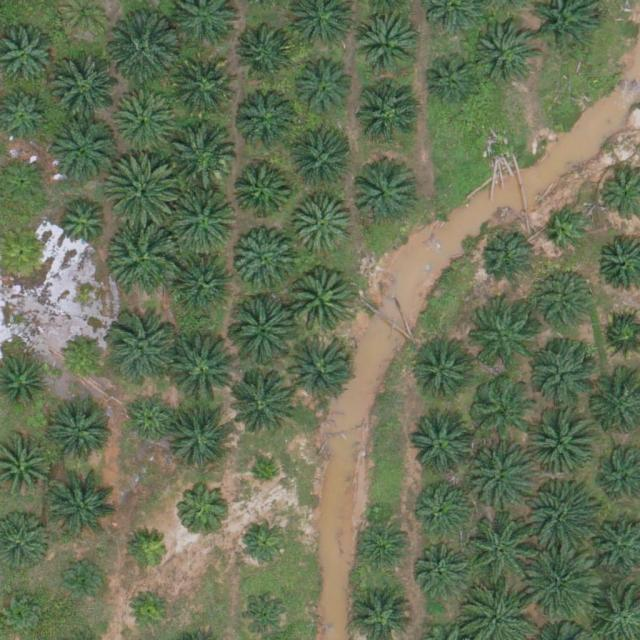Healthy: (110, 222, 181, 293), (49, 470, 119, 541), (529, 549, 599, 620), (528, 406, 598, 477), (529, 334, 599, 405), (464, 444, 535, 514), (284, 334, 354, 405), (226, 297, 297, 367), (224, 370, 295, 440), (166, 334, 236, 405), (169, 183, 239, 254), (107, 153, 177, 224), (169, 402, 239, 473), (109, 15, 179, 86), (529, 480, 599, 550), (469, 515, 539, 585), (286, 267, 356, 337), (109, 315, 179, 385), (167, 120, 237, 190), (51, 57, 121, 127), (47, 115, 117, 185), (50, 399, 113, 462), (470, 378, 533, 441), (415, 338, 478, 401), (229, 161, 292, 224), (175, 252, 238, 315), (472, 23, 535, 86), (114, 91, 177, 154), (467, 308, 529, 371), (414, 537, 476, 600), (412, 474, 474, 537), (412, 416, 474, 479), (351, 165, 413, 228), (292, 134, 354, 197), (293, 196, 355, 259), (234, 229, 296, 292), (357, 82, 419, 145), (353, 14, 415, 77), (171, 59, 233, 122), (534, 267, 596, 329), (292, 57, 354, 119), (237, 85, 299, 147), (235, 20, 297, 82), (124, 394, 179, 449), (481, 230, 536, 285), (177, 479, 232, 534), (238, 514, 292, 569), (355, 516, 409, 571), (55, 197, 109, 252), (426, 53, 480, 108)
Small: (59, 332, 106, 380), (61, 558, 108, 606), (545, 208, 592, 256), (127, 527, 174, 574), (127, 587, 174, 634), (250, 461, 281, 492)
